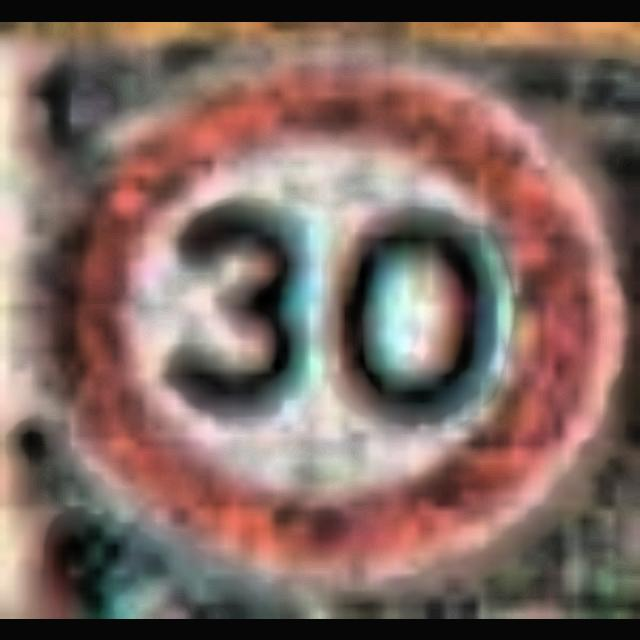speed_30: (60, 62, 622, 566)
